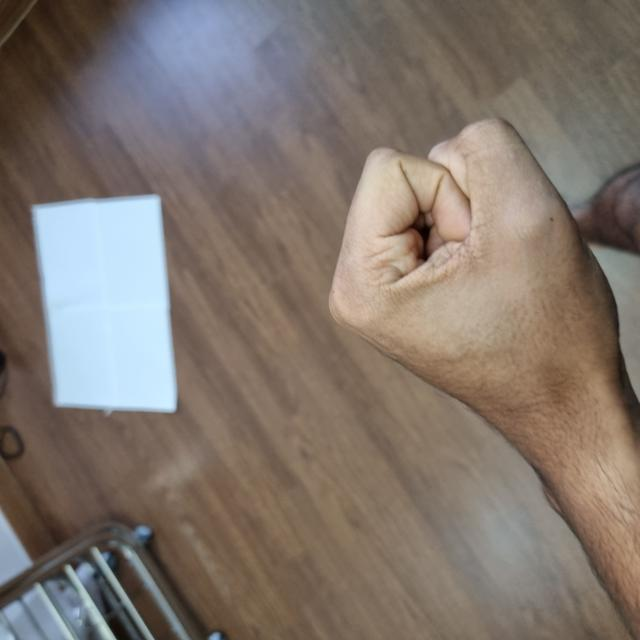Rock: (193, 335, 517, 625)
